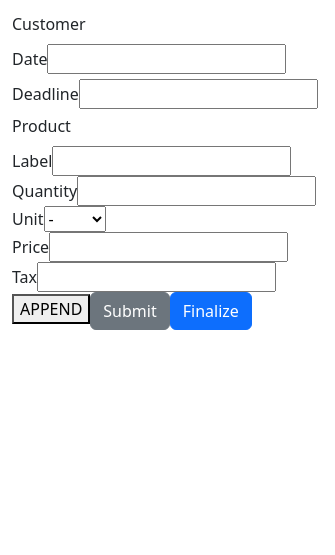
Test: InvoiceEditor › requires at least one line
The image size is (335, 555).
Expected: the text "delete" is not shown
Click the button "APPEND".
click(51, 309)  # box top-left (12, 294), bottom-right (90, 324)
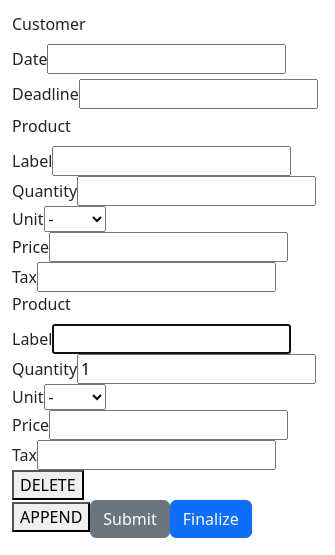
Expected: the number of buttons "DELETE" is 1, top-left (12, 470), bottom-right (84, 500)
